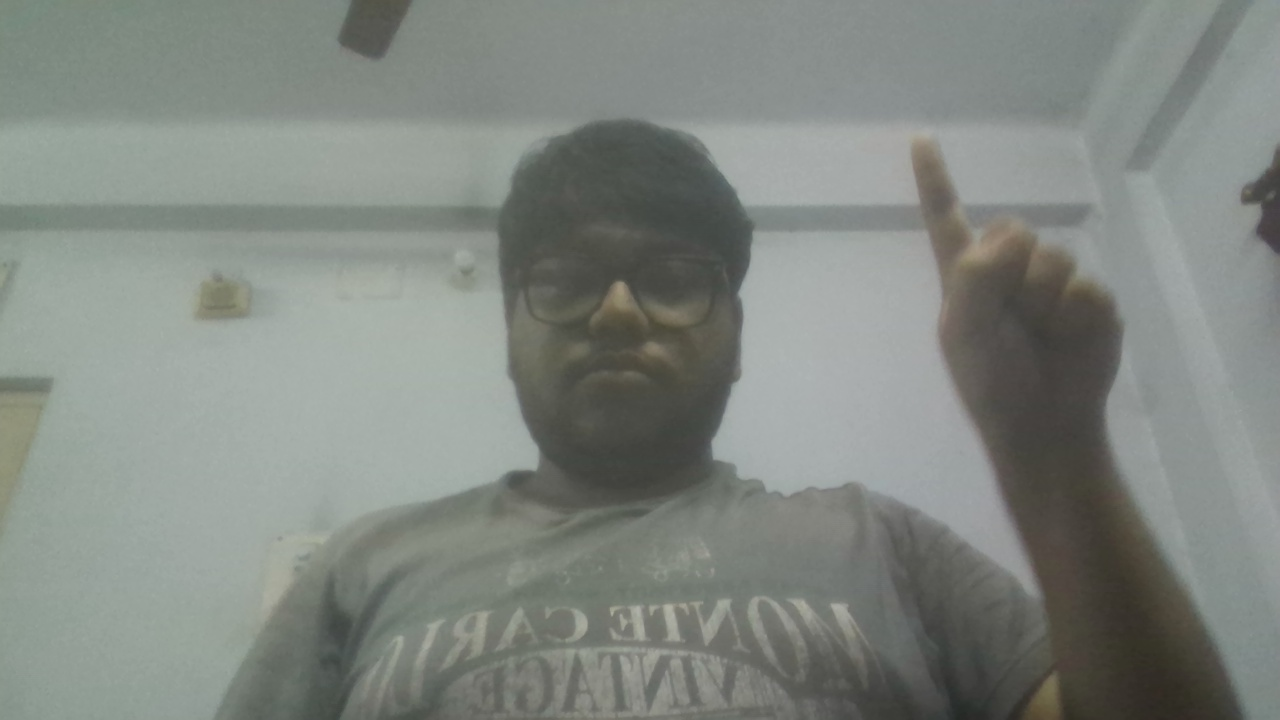Gesture1: (903, 118, 1148, 475)
